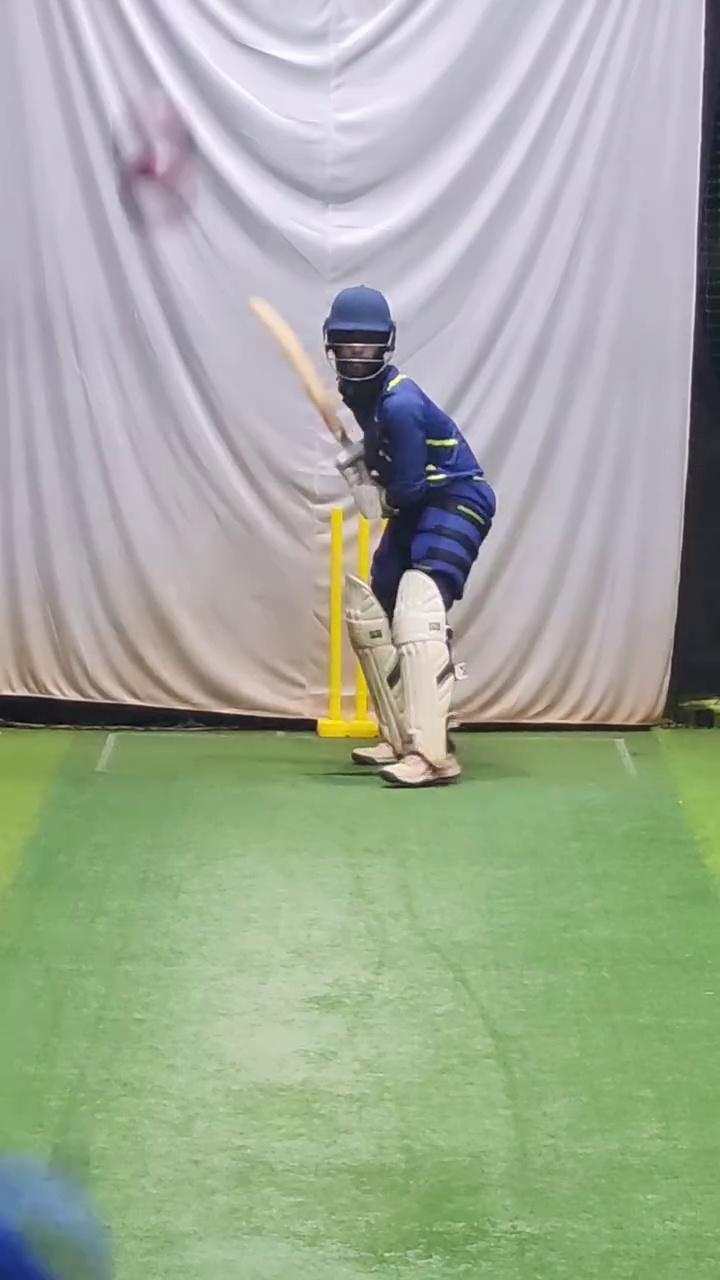bat: (244, 286, 349, 449)
